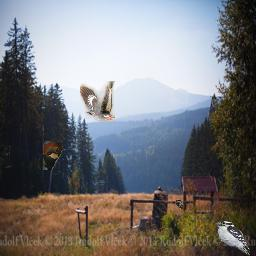Swallow: (43, 141, 63, 170)
Woodpecker: (80, 81, 115, 121), (212, 221, 250, 256), (174, 199, 184, 209)
